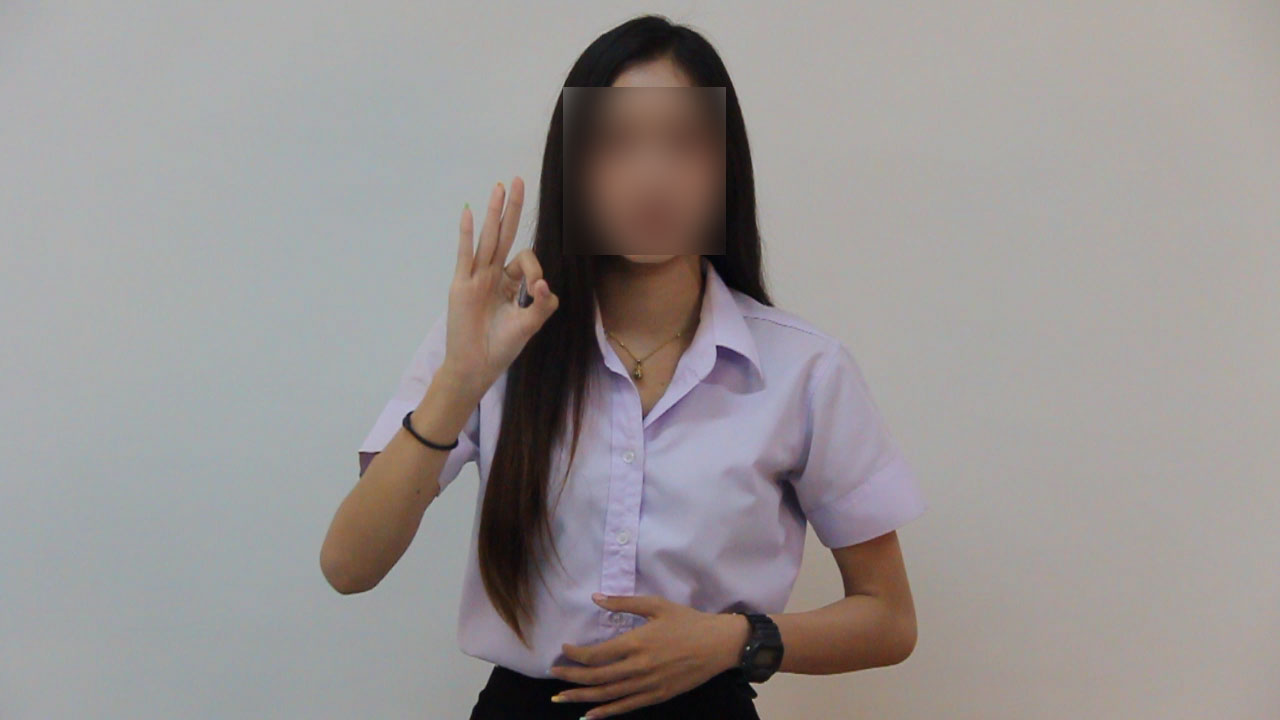for: (423, 164, 566, 385)
